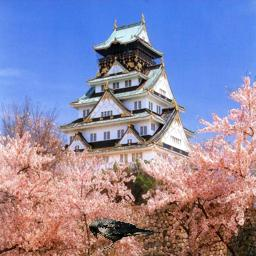Crow: (89, 218, 156, 251)
